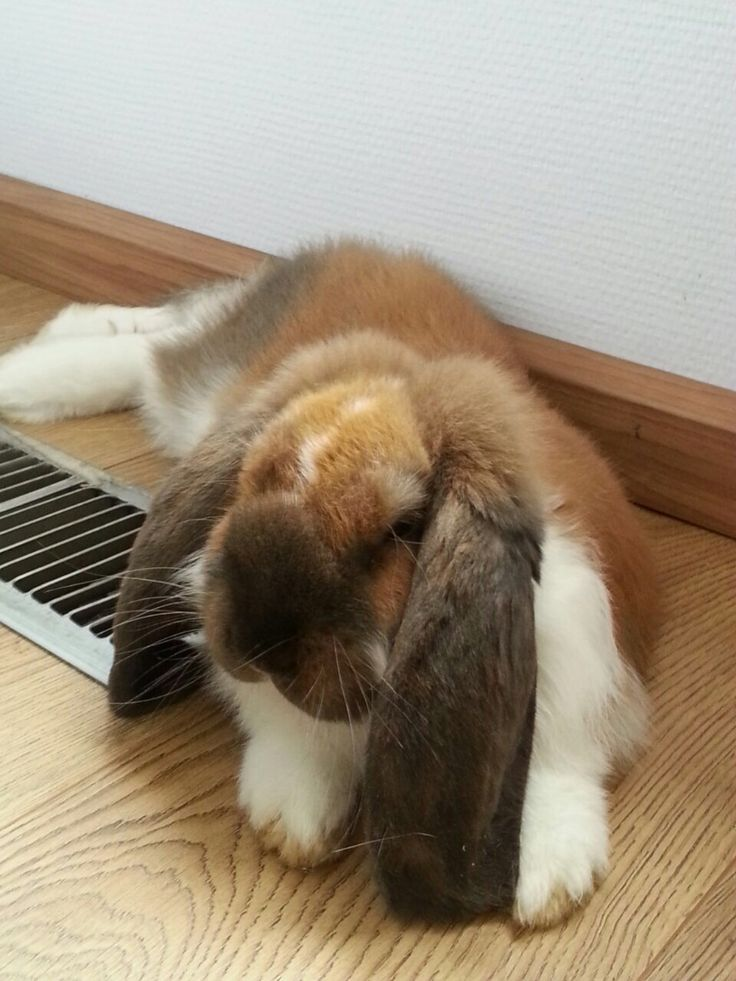bunny: (4, 154, 682, 945)
